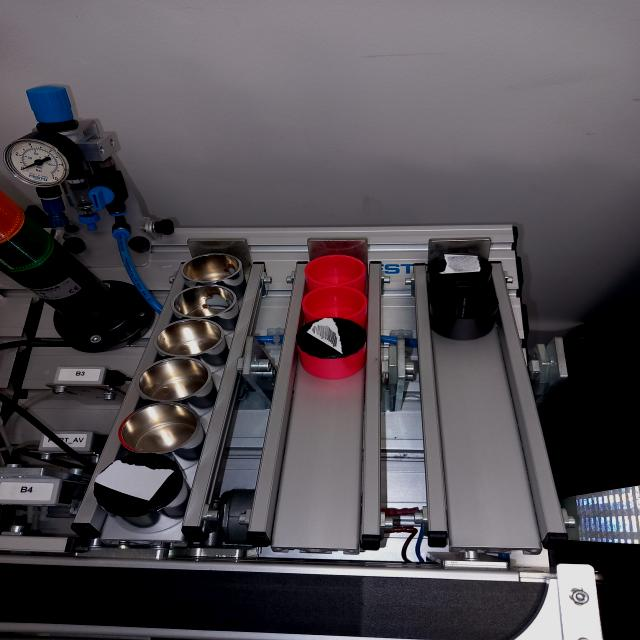NoLid: (125, 403, 202, 457), (426, 287, 500, 343), (138, 363, 213, 403), (159, 322, 230, 360), (301, 253, 371, 289), (171, 286, 237, 322), (297, 287, 367, 318), (179, 252, 241, 286)
